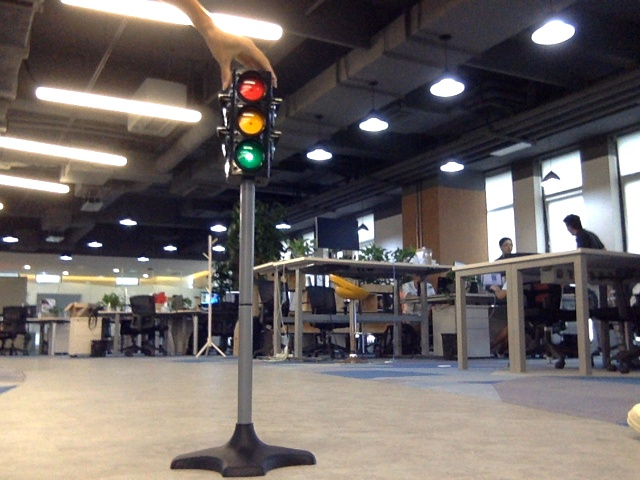green: (231, 74, 266, 172)
